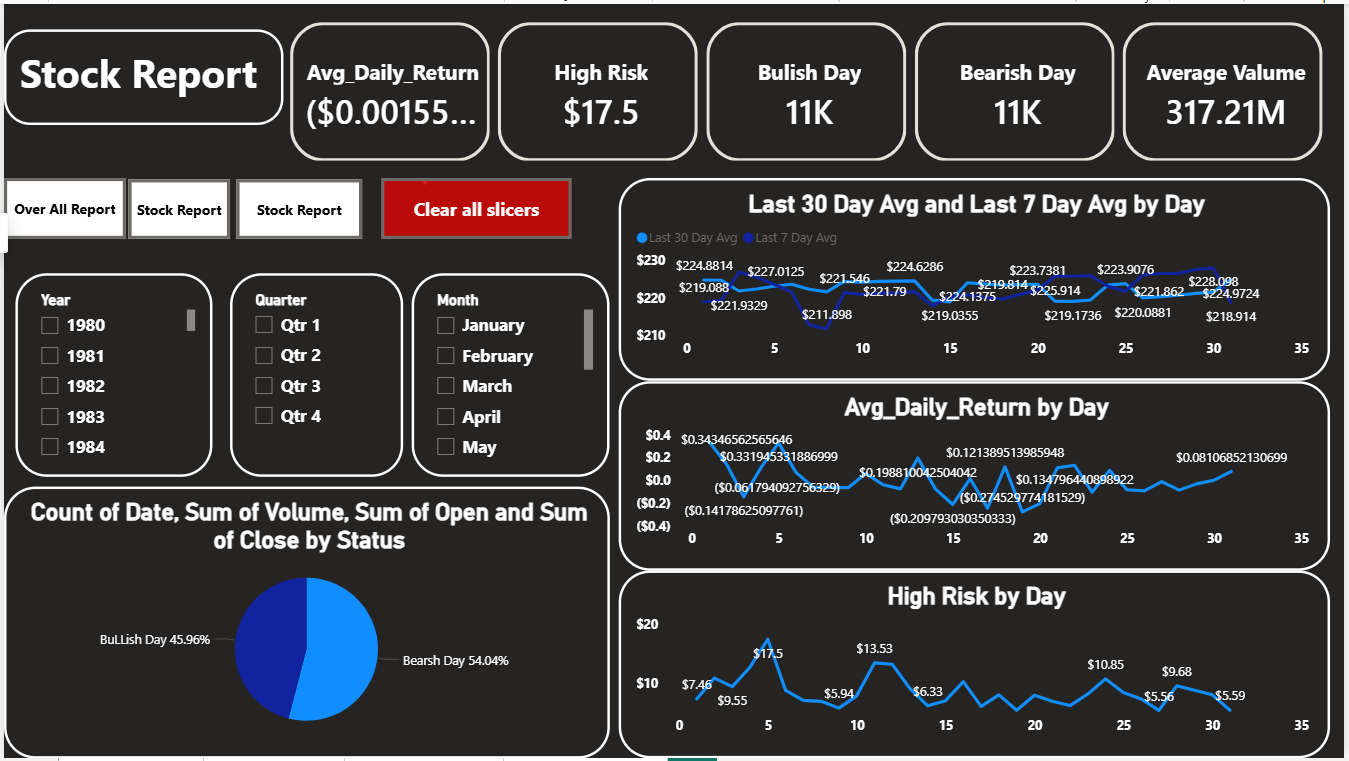

This screenshot's page, from the dashboard's own definition file:
{"tool":"powerbi","page":{"name":"Stock Report","canvas":[1280,720],"ordinal":1},"visuals":[{"type":"cardVisual","fields":{"Data":["AppleStockPrice.Avg_Daily_Return","AppleStockPrice.high Risk","AppleStockPrice.Bulish Day","AppleStockPrice.Bearish  Day","AppleStockPrice.Average Valume"]},"box":[255.8,0,1023.3,167.4],"z":0},{"type":"lineChart","fields":{"Category":["AppleStockPrice.Date.Variation.Date Hierarchy.Day"],"Y":["AppleStockPrice.Last 30 Day Avg","AppleStockPrice.Last 7 Day Avg"]},"box":[587.3,166.7,679.4,193.7],"z":1000},{"type":"lineChart","fields":{"Y":["AppleStockPrice.Avg_Daily_Return"],"Category":["AppleStockPrice.Date.Variation.Date Hierarchy.Day"]},"box":[587.3,360.3,679.4,181],"z":2000},{"type":"lineChart","fields":{"Category":["AppleStockPrice.Date.Variation.Date Hierarchy.Day"],"Y":["AppleStockPrice.High Risk"]},"box":[587.3,541.3,679.4,179.4],"z":3000},{"type":"pieChart","fields":{"Category":["AppleStockPrice.Status"],"Y":["CountNonNull(AppleStockPrice.Date)"]},"box":[0,461,578.7,259.6],"z":4000},{"type":"slicer","fields":{"Values":["AppleStockPrice.Date.Variation.Date Hierarchy.Year"]},"box":[10.9,257.2,188,194.1],"z":5000},{"type":"slicer","fields":{"Values":["AppleStockPrice.Date.Variation.Date Hierarchy.Quarter"]},"box":[215.9,257.2,165,194.1],"z":6000},{"type":"slicer","fields":{"Values":["AppleStockPrice.Date.Variation.Date Hierarchy.Month"]},"box":[389.4,257.2,189.3,194.1],"z":7000},{"type":"textbox","box":[0,24.3,266.9,91],"z":8000},{"type":"actionButton","box":[0,166.2,116.5,58.2],"z":9000},{"type":"actionButton","box":[118.9,167.4,97.1,57],"z":10000},{"type":"actionButton","box":[222,167.4,120.1,57],"z":11000},{"type":"actionButton","box":[360.3,166.2,182,58.2],"z":12000}]}

Visuals, with their boxes in screenshot pixels (x1, y1, x2, y2), scaled from the page's 1280x720 canvas onto the 1349x761 screenshot:
cardVisual - AppleStockPrice.Avg_Daily_Return x AppleStockPrice.high Risk: Rect(270, 0, 1348, 177)
lineChart - AppleStockPrice.Date.Variation.Date Hierarchy.Day x AppleStockPrice.Last 30 Day Avg: Rect(619, 176, 1335, 381)
lineChart - AppleStockPrice.Avg_Daily_Return x AppleStockPrice.Date.Variation.Date Hierarchy.Day: Rect(619, 381, 1335, 572)
lineChart - AppleStockPrice.Date.Variation.Date Hierarchy.Day x AppleStockPrice.High Risk: Rect(619, 572, 1335, 760)
pieChart - AppleStockPrice.Status x CountNonNull(AppleStockPrice.Date): Rect(0, 487, 610, 760)
slicer - AppleStockPrice.Date.Variation.Date Hierarchy.Year: Rect(11, 272, 210, 477)
slicer - AppleStockPrice.Date.Variation.Date Hierarchy.Quarter: Rect(228, 272, 401, 477)
slicer - AppleStockPrice.Date.Variation.Date Hierarchy.Month: Rect(410, 272, 610, 477)
textbox: Rect(0, 26, 281, 122)
actionButton: Rect(0, 176, 123, 237)
actionButton: Rect(125, 177, 228, 237)
actionButton: Rect(234, 177, 361, 237)
actionButton: Rect(380, 176, 572, 237)
